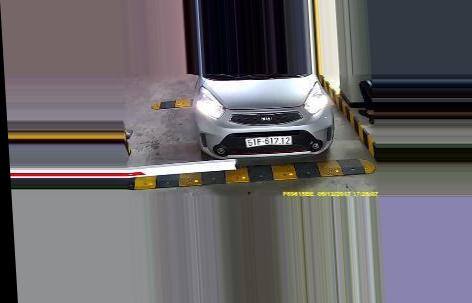License_Plate: (243, 135, 298, 151)
